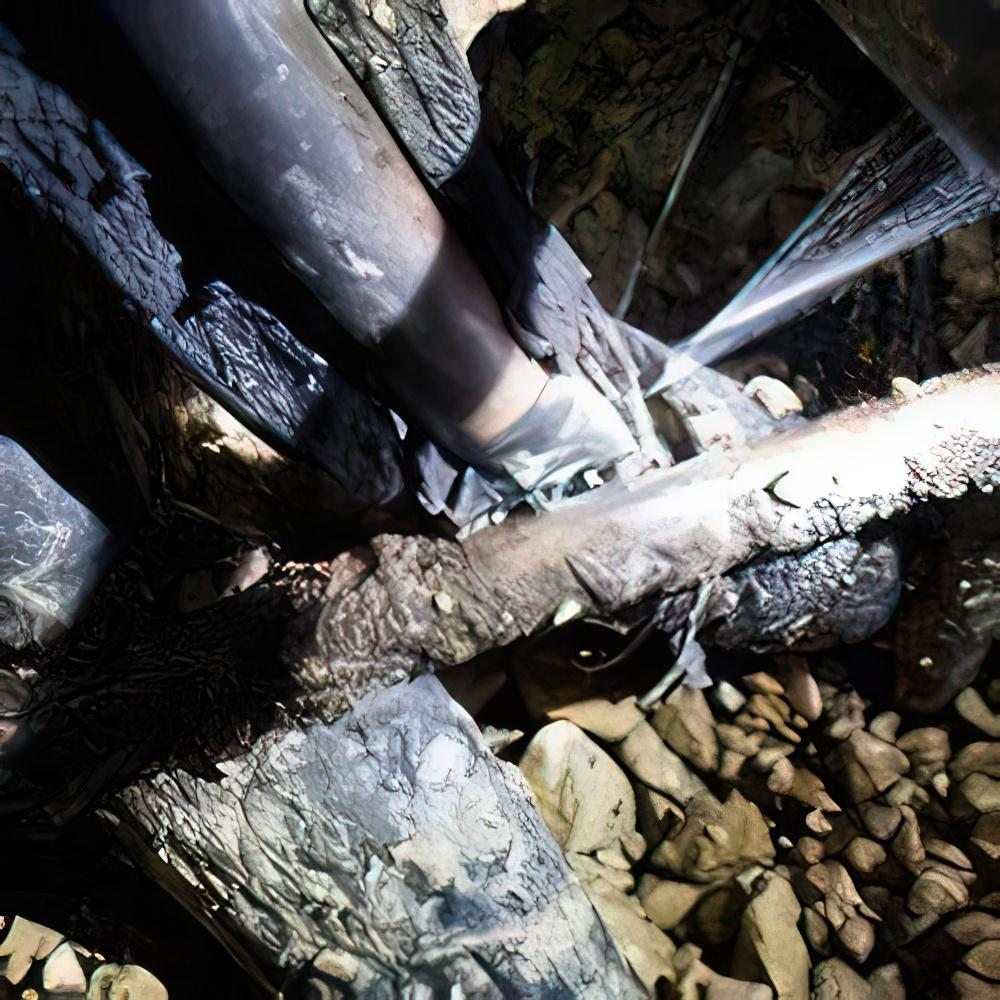pipe burst: (620, 152, 1000, 413)
